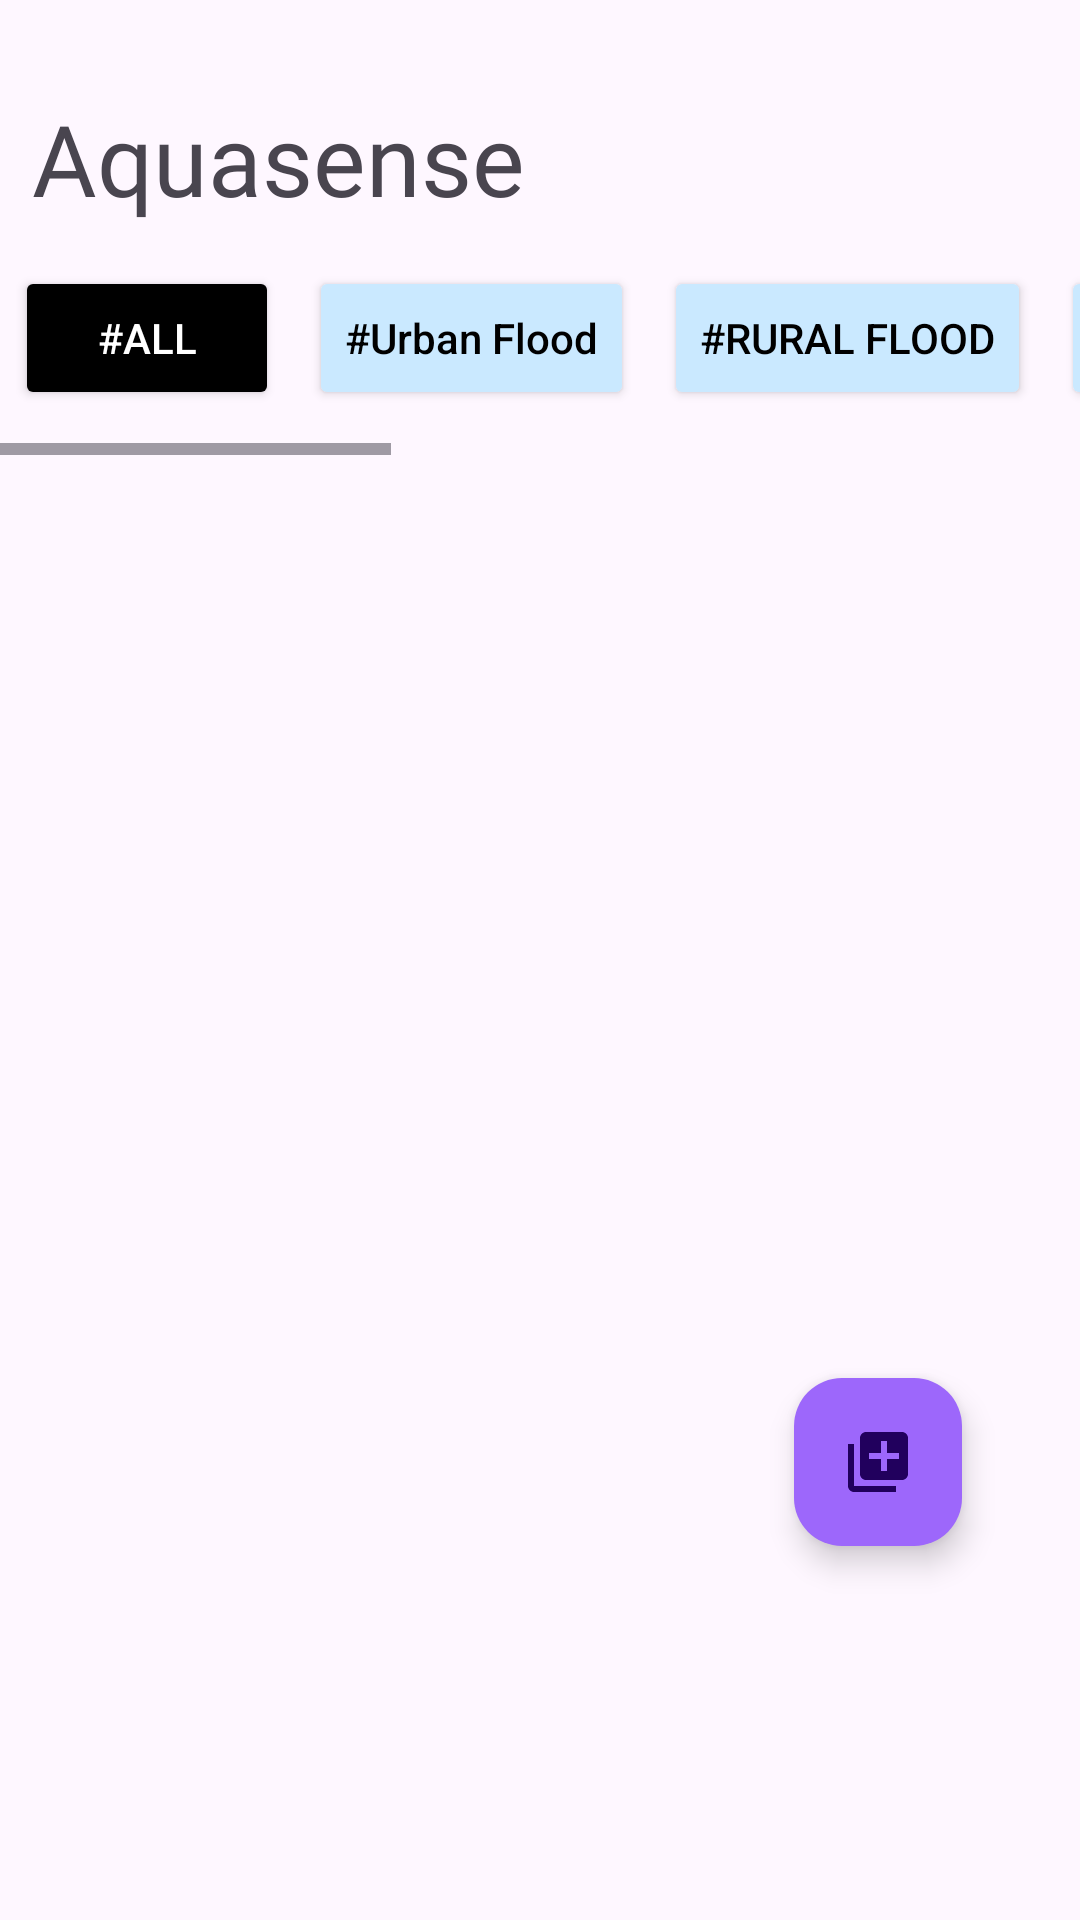

Icon bounding boxes for this 1080 x 1920 phone screenshot, format BBox(x1, y1, x2, y2):
library add: BBox(794, 1378, 962, 1546)
